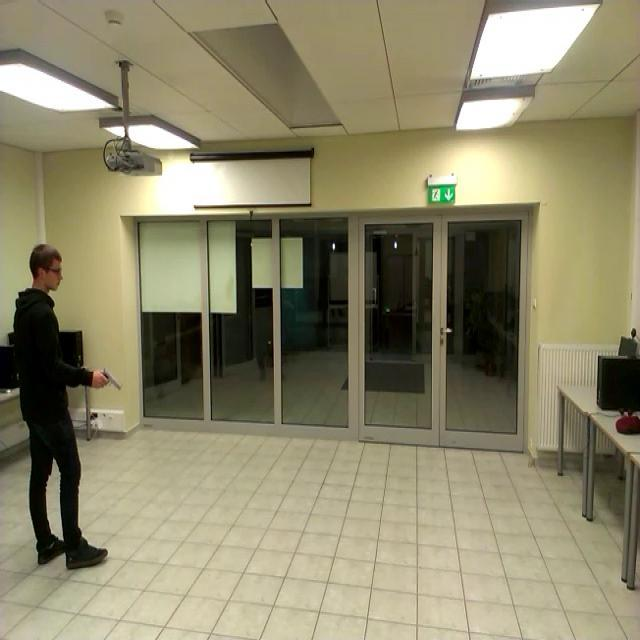gun-knife-thesis - v11 Yolov5 augmented: (88, 358, 121, 388)
